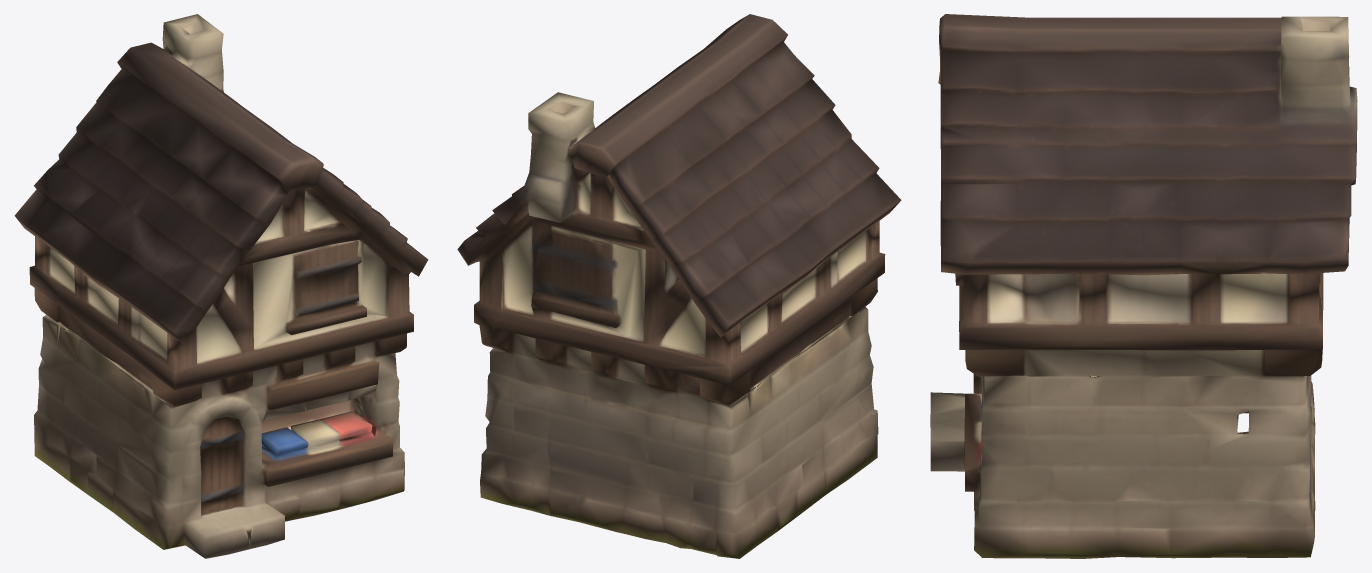
The model's file is tailor.glb.
3 renders of one model, left to right at view 1: azimuth 30°, elevation 25°; view 2: azimuth 150°, elevation 25°; view 3: azimuth 270°, elevation 25°, orthographic. The views are drawn at different scales.
Visible parts, largest first — view 1: geometry_0.001; view 2: geometry_0.001; view 3: geometry_0.001.
Boxes of the visible parts, x1,y1,x2,y2 form: geometry_0.001: (14, 14, 428, 558); geometry_0.001: (457, 14, 901, 558); geometry_0.001: (930, 14, 1357, 558).
Size of the model in its own units: 1.39 by 1.99 by 1.59.
1 material, 1 textured.
